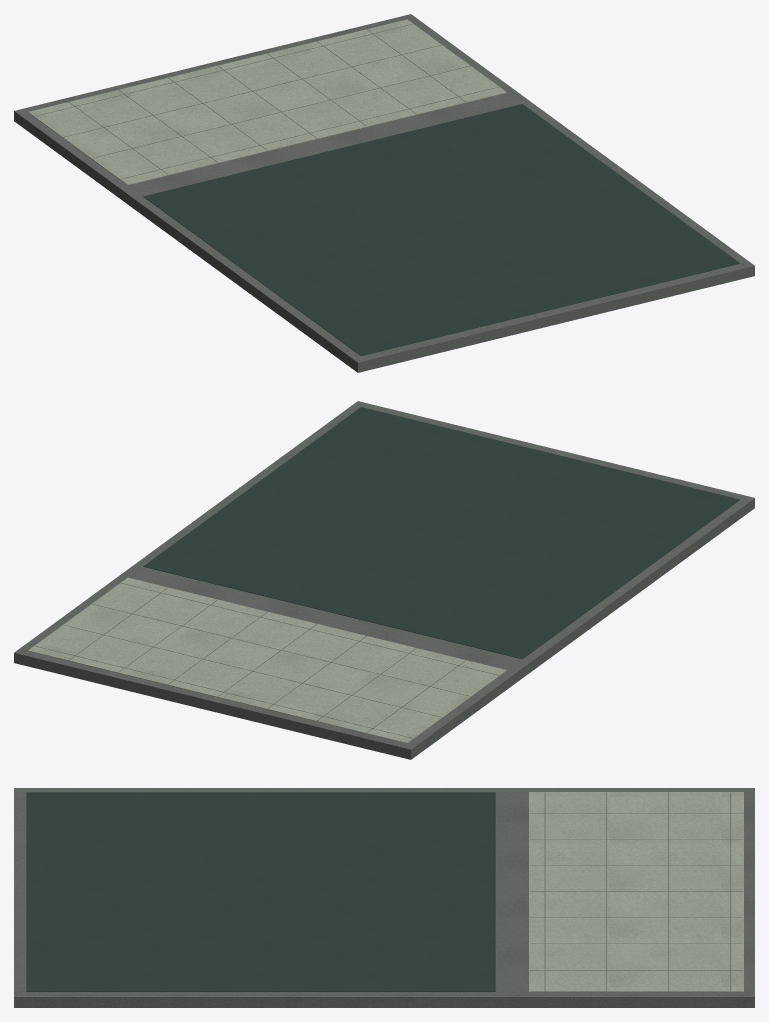
The model's file is room_floor_4x6m.glb.
3 renders of one model, top to bottom at view 1: azimuth 30°, elevation 25°; view 2: azimuth 150°, elevation 25°; view 3: azimuth 270°, elevation 25°, orthographic. The views are drawn at different scales.
Visible parts, largest first — view 1: room_floor_4x6m; view 2: room_floor_4x6m; view 3: room_floor_4x6m.
Part boxes in pixels (x1=…): room_floor_4x6m: x1=14, y1=14, x2=754, y2=372; room_floor_4x6m: x1=14, y1=401, x2=754, y2=759; room_floor_4x6m: x1=14, y1=788, x2=754, y2=1007.
Bounding box in the file's own units: 4 × 0.1065 × 6.
Materials: 3 (3 with a texture image).
